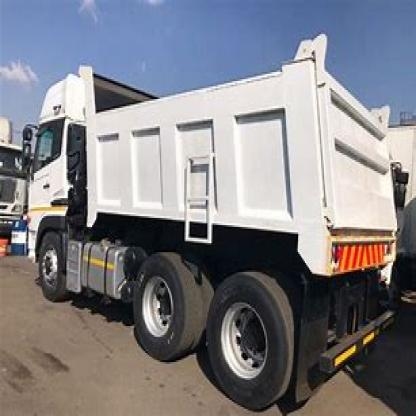dump_truck: (30, 25, 409, 409)
